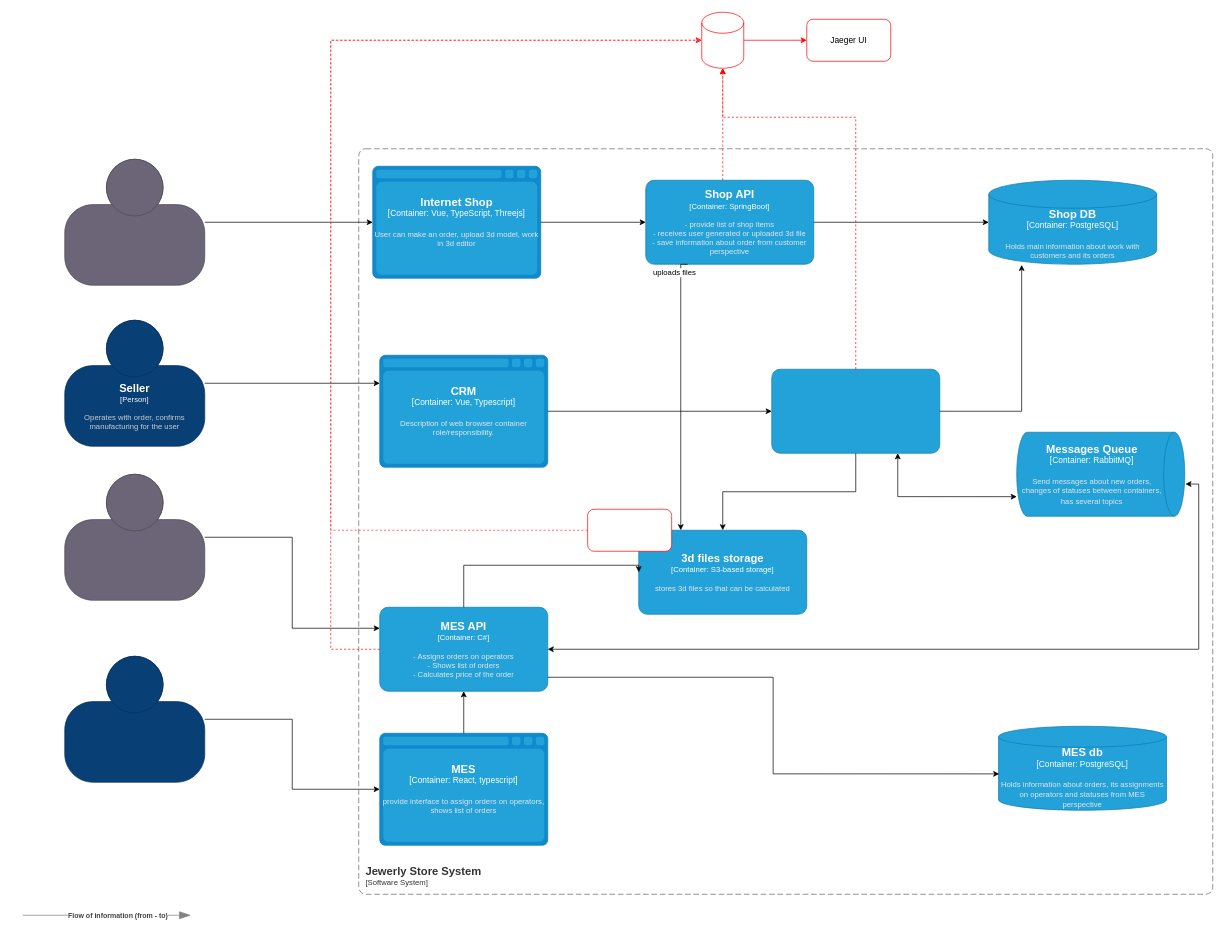
The diagram is 1225 pixels wide and 939 high, and some of its shapes have lost their labels. Each missing label, with the box of its shape:
API user [Person] Description of external person.: (64, 474, 205, 600)
CRM API [Container: SpringBoot] Description of container role/responsibility.: (771, 369, 940, 453)
Customer [Person] Description of external person.: (64, 159, 205, 285)
Jaeger: (701, 12, 744, 68)
Operator [Person] Takes order in work, manufactures jewerly: (64, 656, 205, 782)
sidecar: (587, 509, 672, 551)
